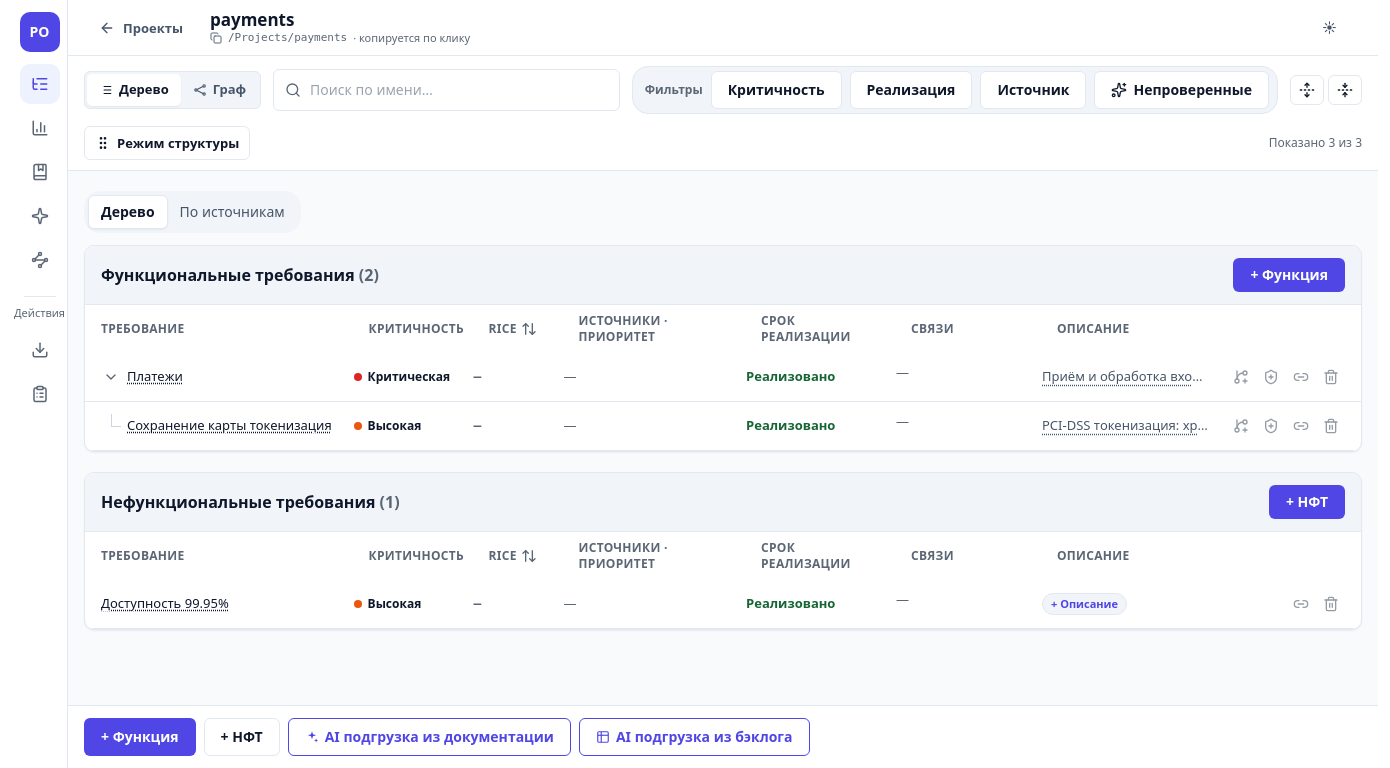
it: Main page (E11 integration) › task23: «Раскрыть все» clears manual branch collapses
Check: the row with test id "tree-row-token" is shown, box [85,402,1361,450]
Click the button with test id "toggle-node": (111, 377) [101,367,121,387]
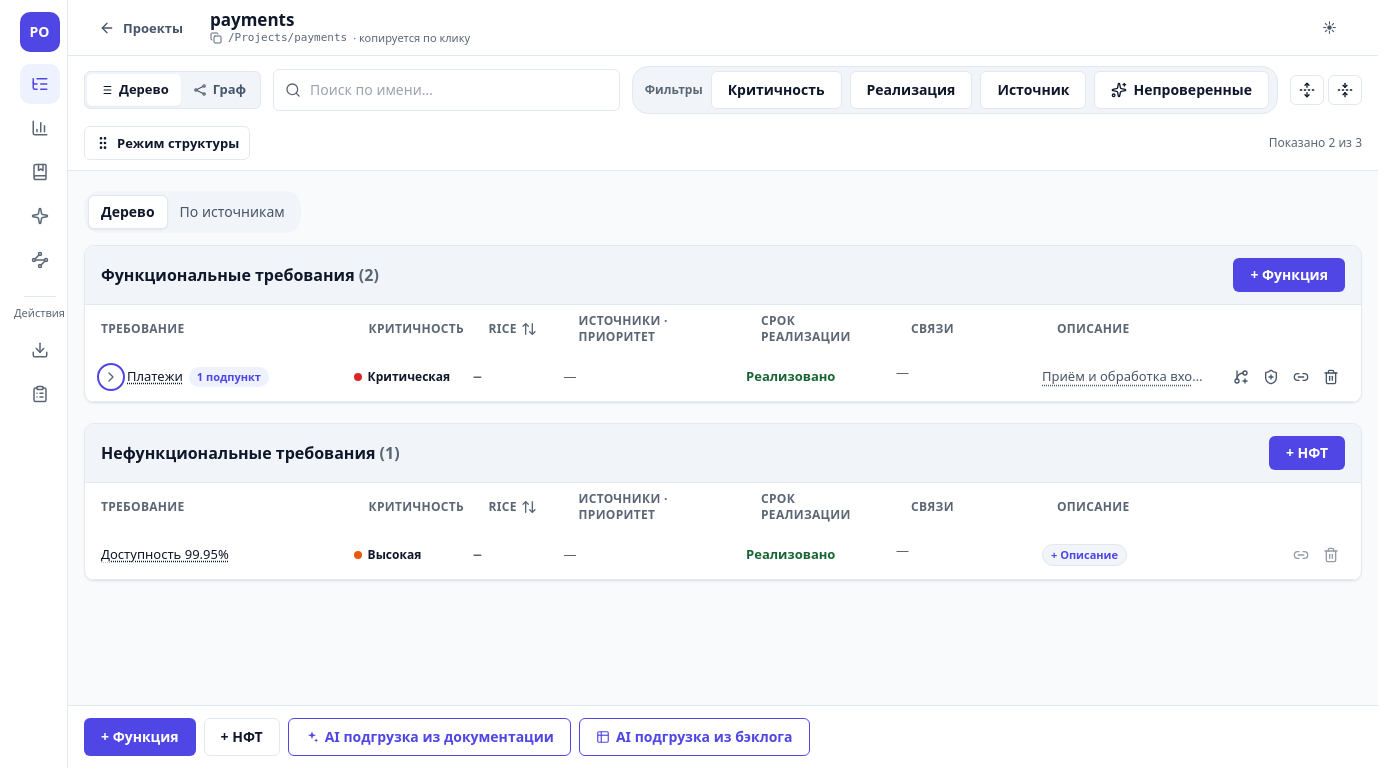
Check: the row with test id "tree-row-token" is gone
Click the button with test id "toggle-expand-all": (1307, 90) [1290,75,1324,105]
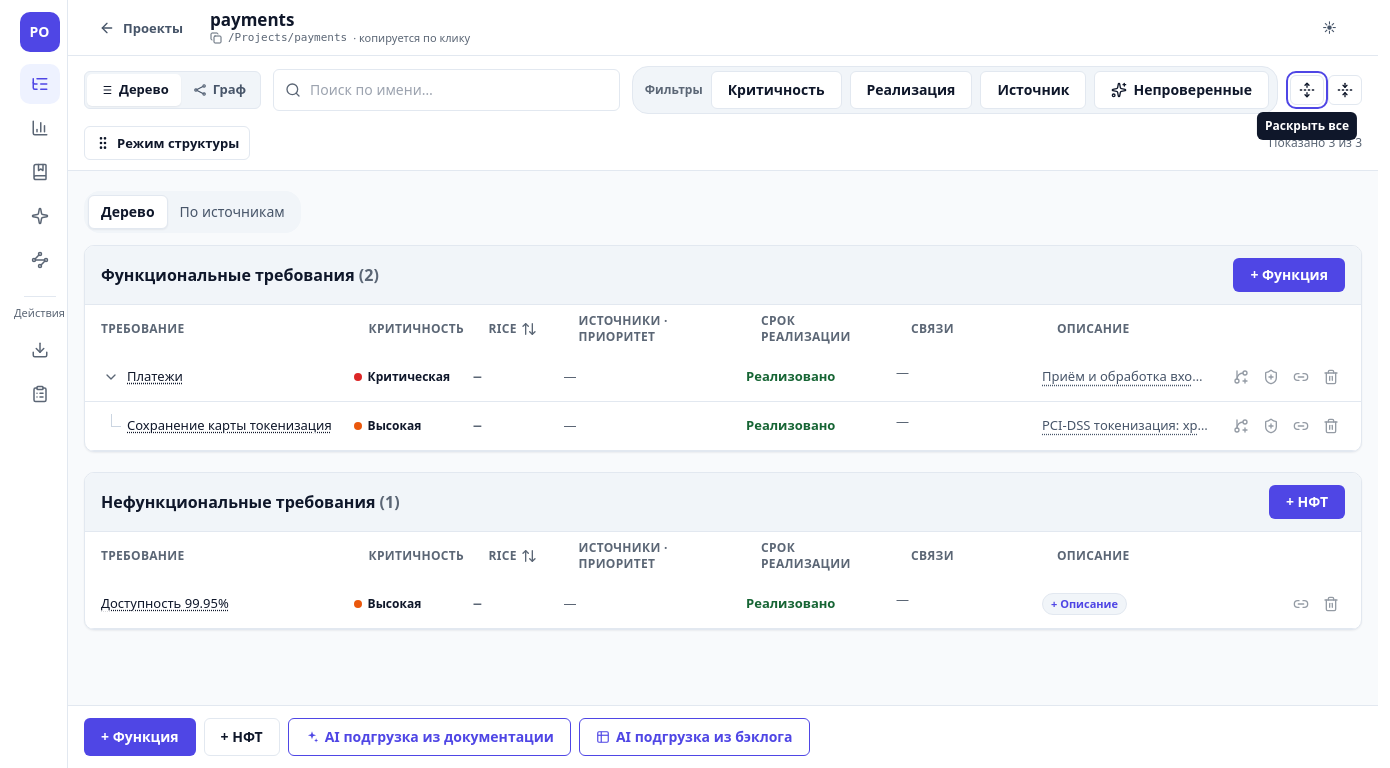
Check: the row with test id "tree-row-token" is shown, box [85,402,1361,450]
